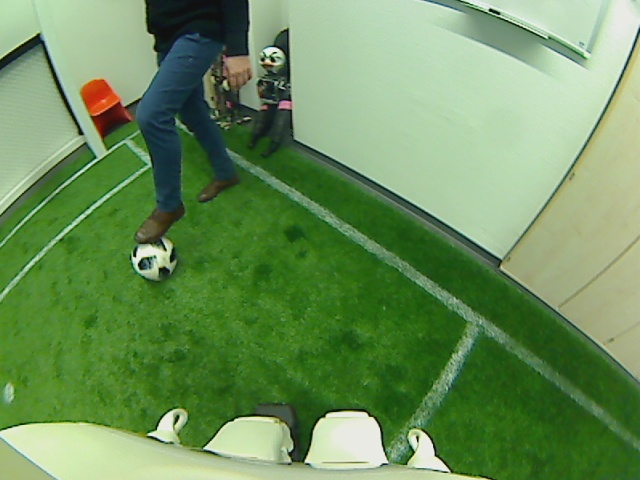ball: (130, 235, 177, 282)
